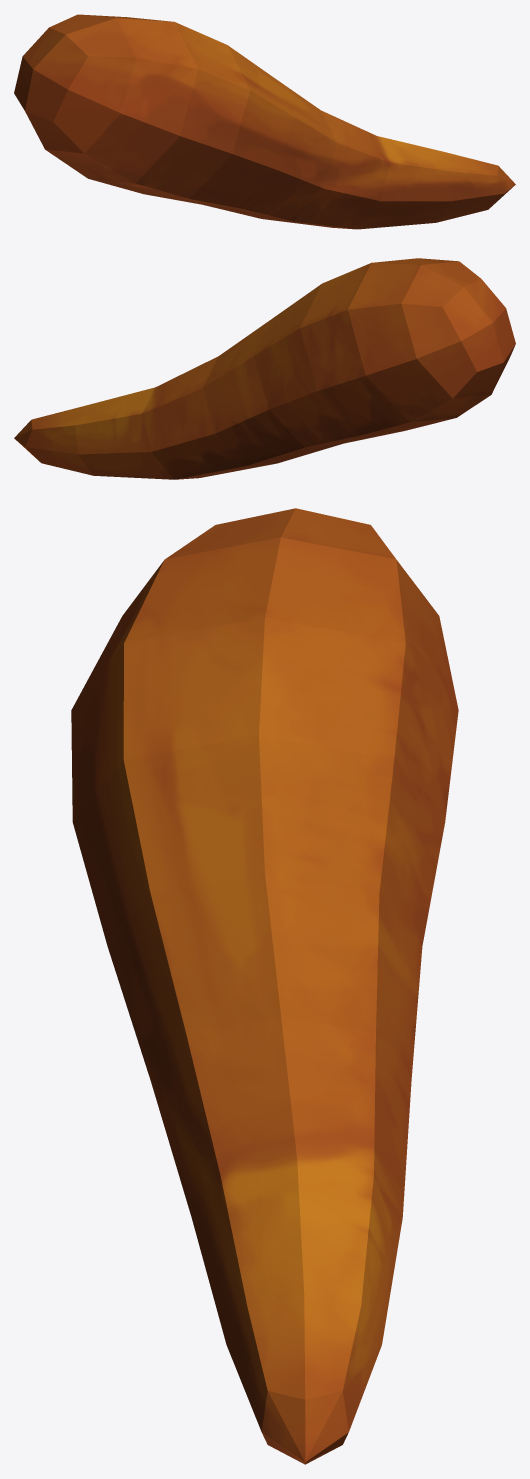
Rendered from Yuca.fbx.
3 renders of one model, top to bottom at view 1: azimuth 30°, elevation 25°; view 2: azimuth 150°, elevation 25°; view 3: azimuth 270°, elevation 25°, orthographic. The views are drawn at different scales.
Visible parts, largest first — view 1: Yuca_1; view 2: Yuca_1; view 3: Yuca_1.
Part boxes in pixels (box(x1,y1,x2,y2)): Yuca_1: box(14, 14, 515, 229); Yuca_1: box(14, 258, 515, 479); Yuca_1: box(71, 508, 458, 1464).
Bounding box in the file's own units: 956 × 526 × 329.
1 material, 1 textured.
